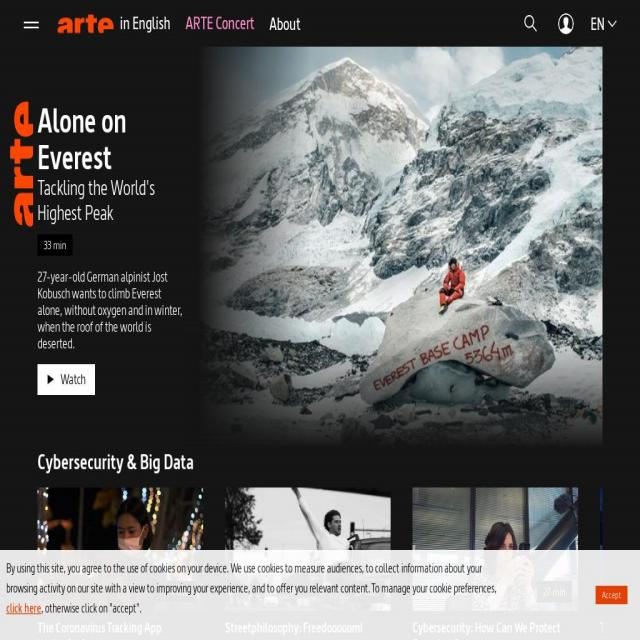language: (119, 12, 171, 33), (588, 12, 624, 38)
login-option: (552, 12, 580, 40)
navigation-blocks: (34, 482, 610, 560)
navigation-links: (182, 13, 308, 37)
options: (18, 12, 42, 38)
search: (520, 10, 540, 37)
sign-up-option: (551, 8, 584, 42)
